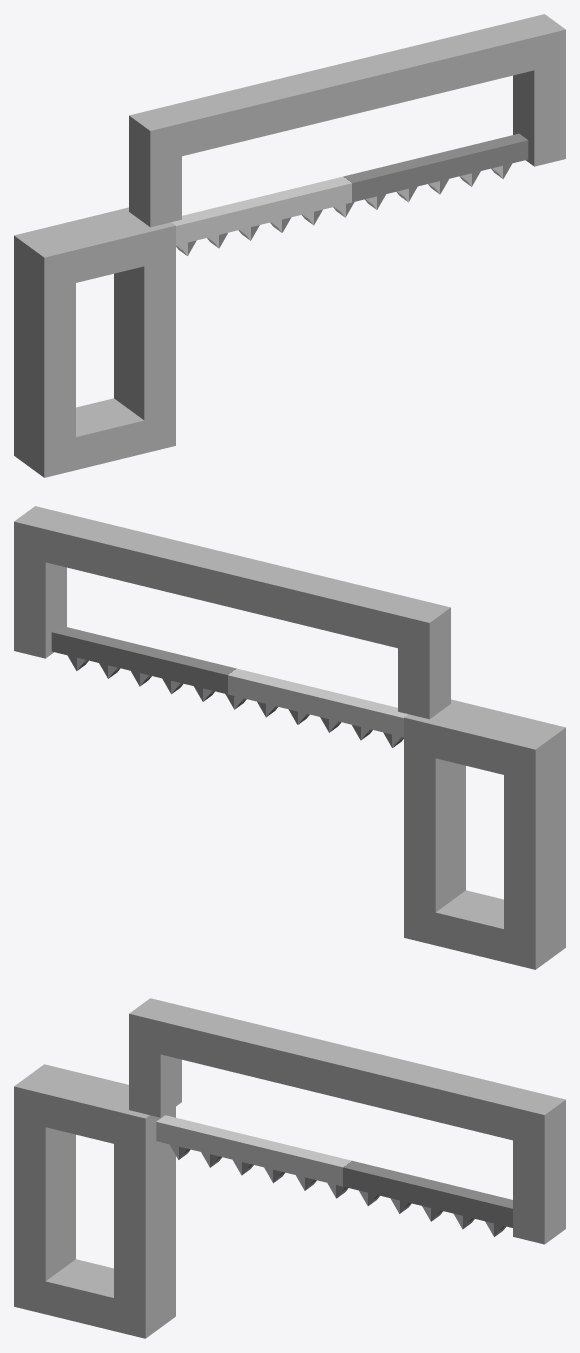
Rendered from saw.obj.
3 views of the same model, one above another, from view 1: azimuth 30°, elevation 25°; view 2: azimuth 150°, elevation 25°; view 3: azimuth 330°, elevation 25° (orthographic).
Parts seen in each view (by area): view 1: closed_grip, frame, blade; view 2: closed_grip, frame, blade; view 3: closed_grip, frame, blade.
Part boxes in pixels (x1=…): closed_grip: x1=14, y1=207, x2=175, y2=477; frame: x1=129, y1=14, x2=565, y2=227; blade: x1=171, y1=133, x2=528, y2=255; closed_grip: x1=404, y1=699, x2=565, y2=969; frame: x1=14, y1=506, x2=450, y2=719; blade: x1=51, y1=625, x2=408, y2=747; closed_grip: x1=14, y1=1064, x2=175, y2=1338; frame: x1=129, y1=998, x2=565, y2=1244; blade: x1=156, y1=1115, x2=512, y2=1236.
Bounding box in the file's own units: 1.25 × 0.7188 × 0.125.
